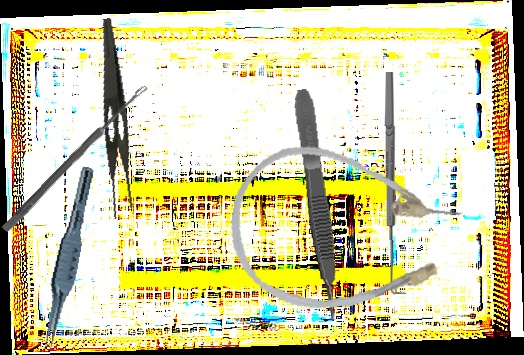Cannula: (219, 134, 470, 331)
Dressing Forceps: (79, 17, 144, 220)
Hook Surgical: (381, 71, 408, 295)
Surgical Spoon: (1, 81, 149, 235)
Tissue Forceps: (291, 87, 344, 323), (38, 164, 96, 354)
